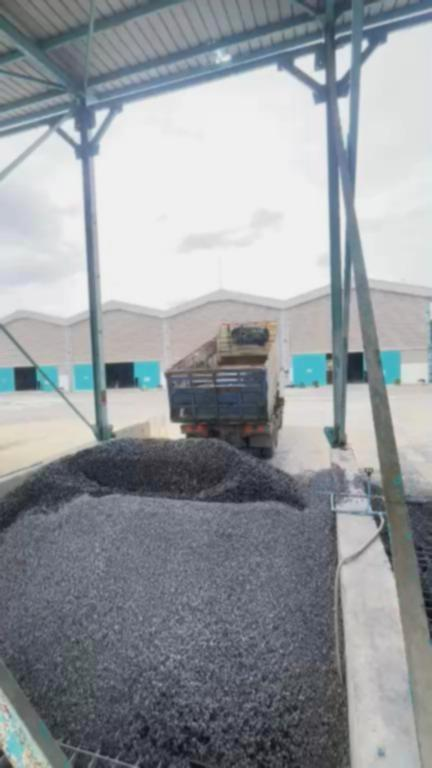gravel: (1, 439, 350, 767), (404, 475, 432, 545), (372, 475, 385, 526)
